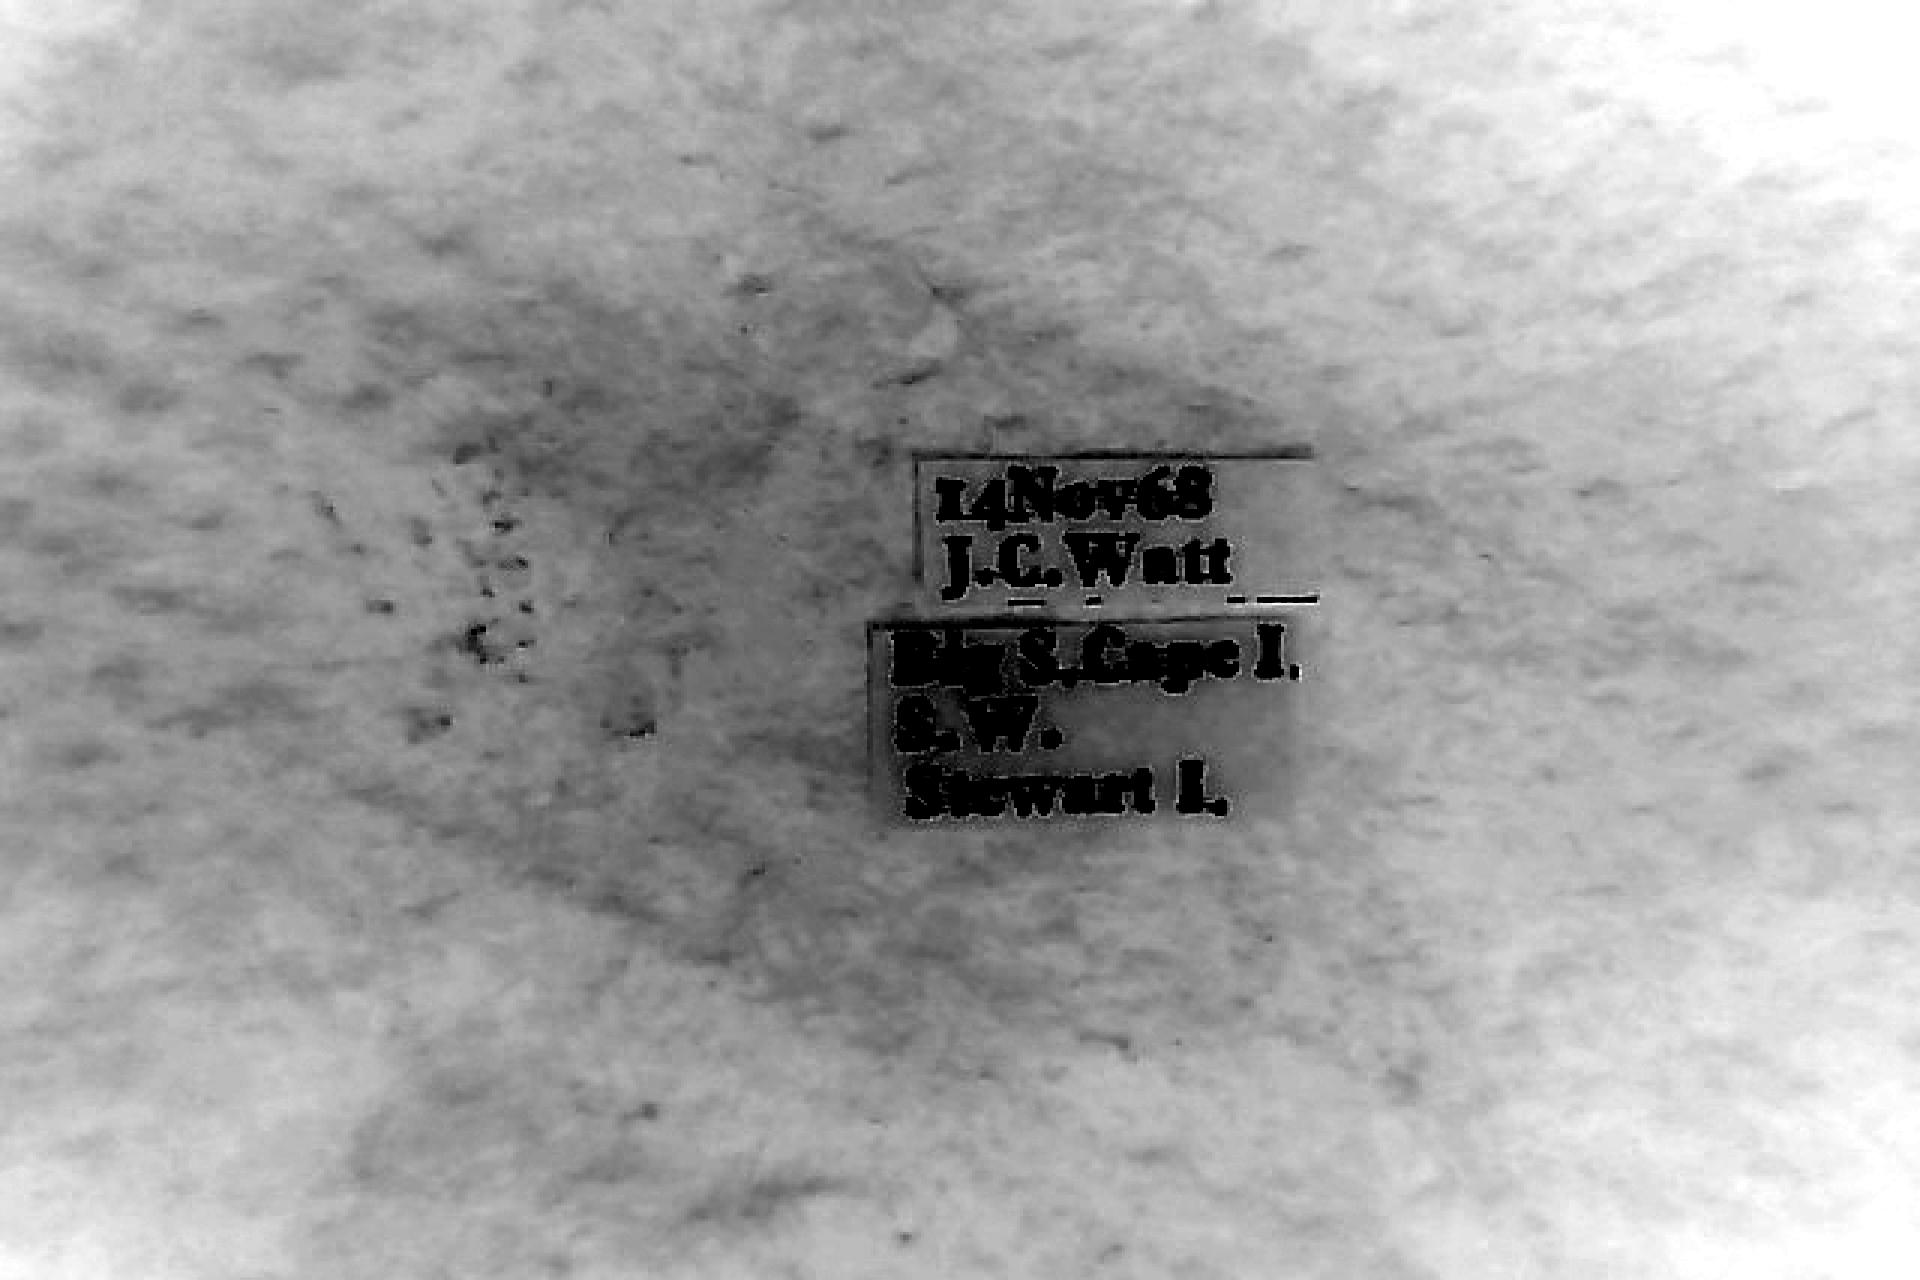typed_label: (870, 613, 1306, 827), (919, 453, 1320, 614)
